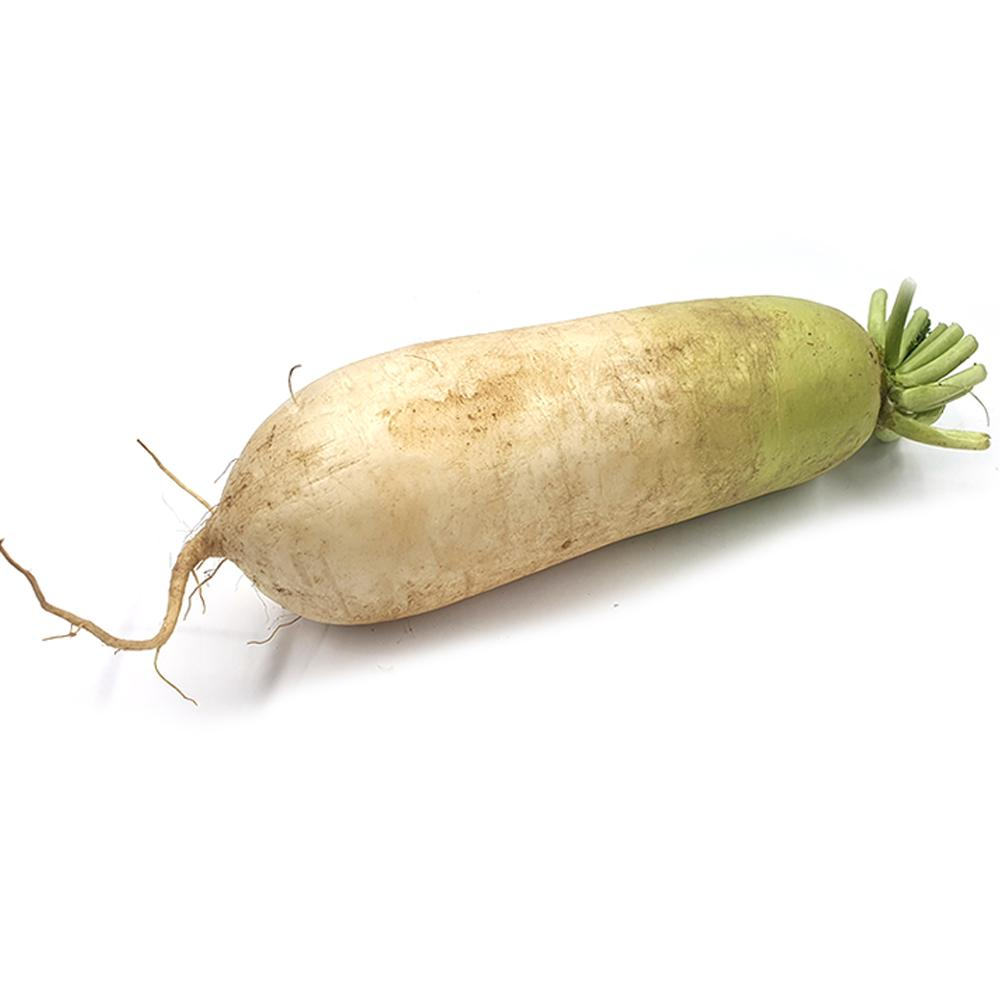radish: (398, 550, 1000, 919)
